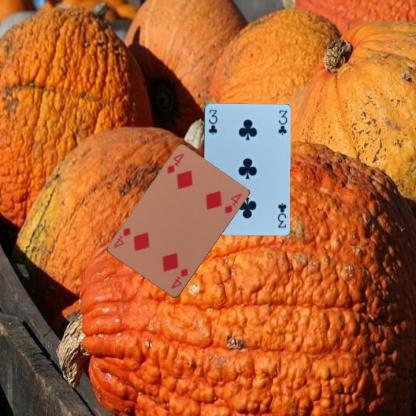3c: (275, 200, 288, 229), (206, 107, 218, 135)
4d: (168, 266, 190, 290), (164, 151, 186, 175)
